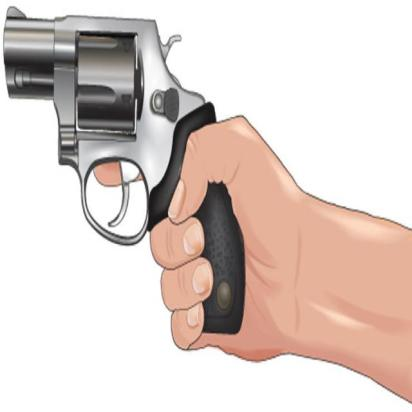Gun: (0, 5, 254, 340)
